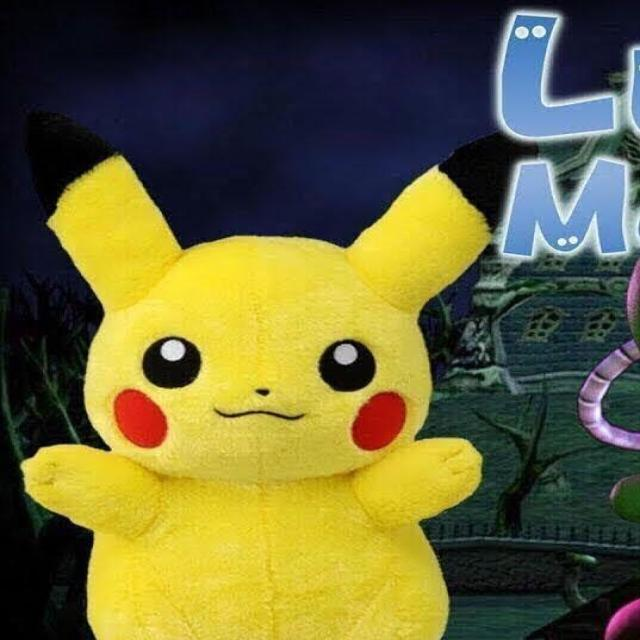pikachu: (25, 109, 541, 640)
